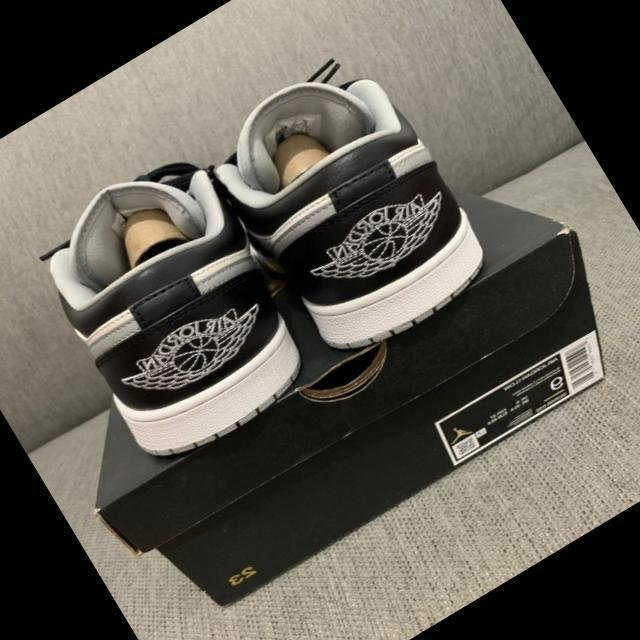nike fake jordan 1: (7, 132, 332, 478), (184, 38, 503, 382)
